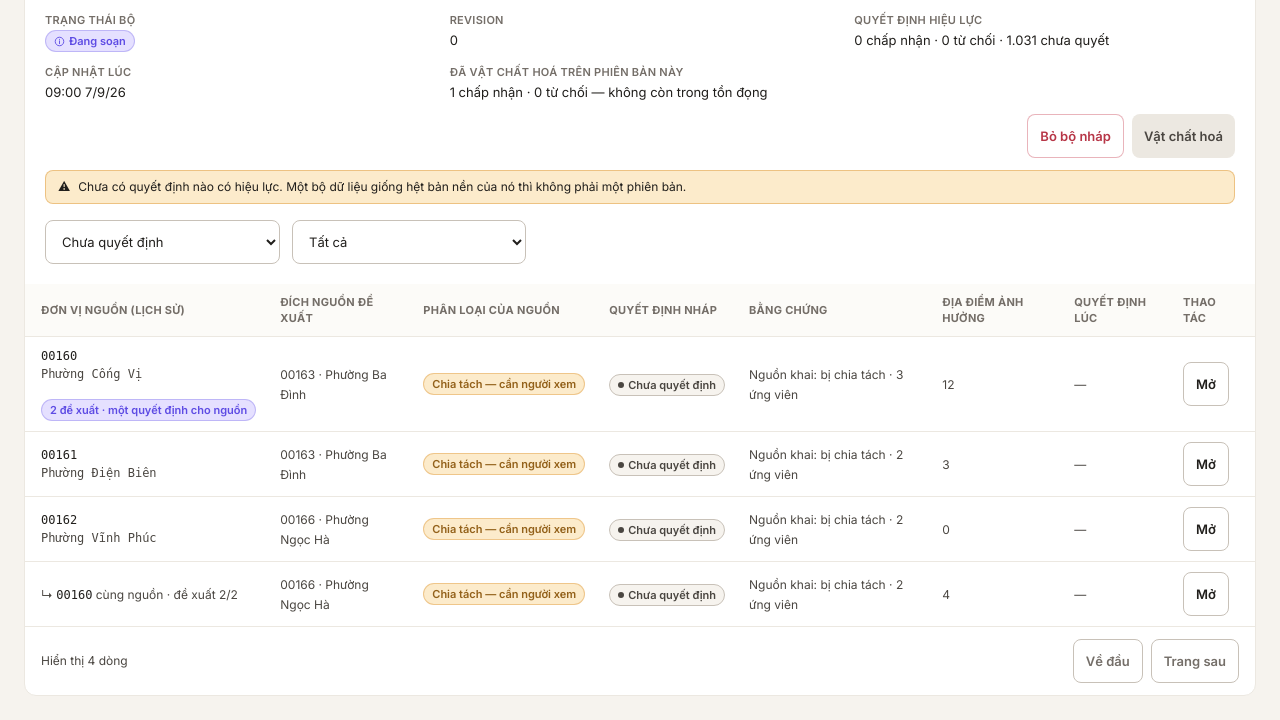
Test: the row detail › refuses to accept without a target and a reason
The image size is (1280, 720).
(page scrolled)
Click the button "Mở" in the row of "Phường Cống Vị" at (1206, 384), box 1183,362 -> 1229,406
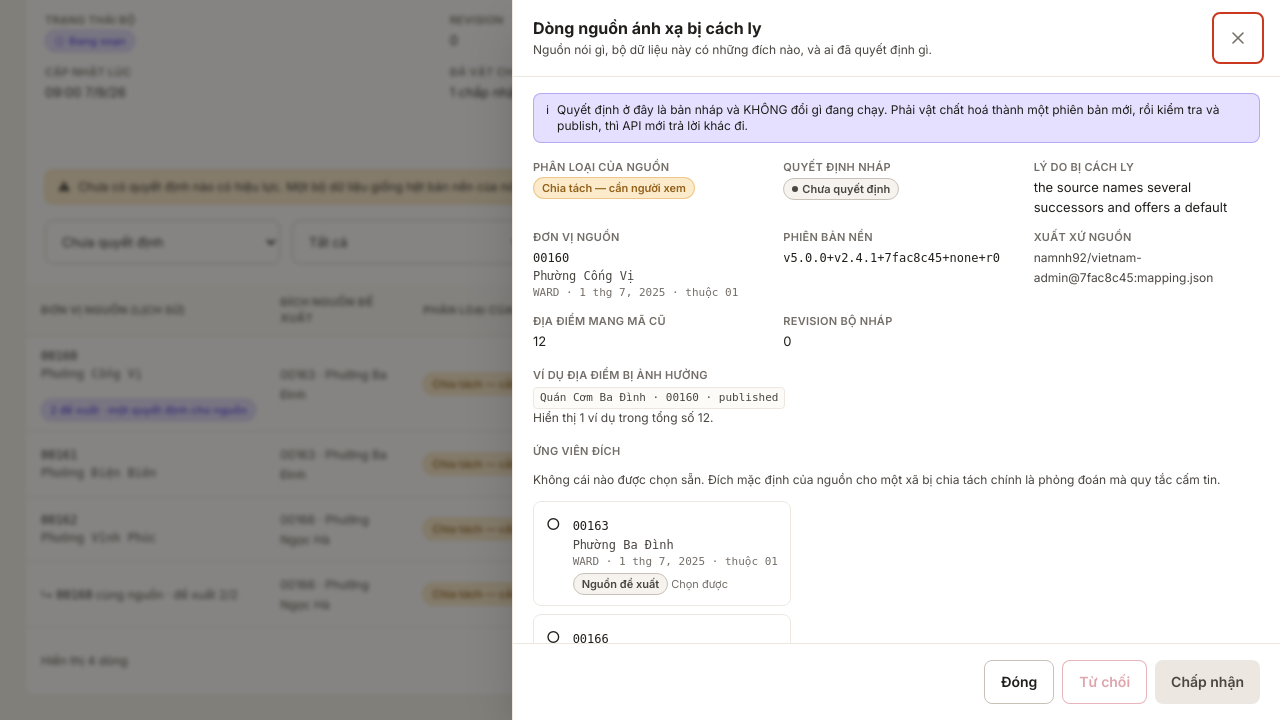
Result: the text "Phường Cống Vị" is shown at 533,269 -> 634,283
Result: the button "Chấp nhận" is disabled at 1155,660 -> 1260,704
Click the radio button at (662, 554), box 533,501 -> 791,606
(page scrolled)
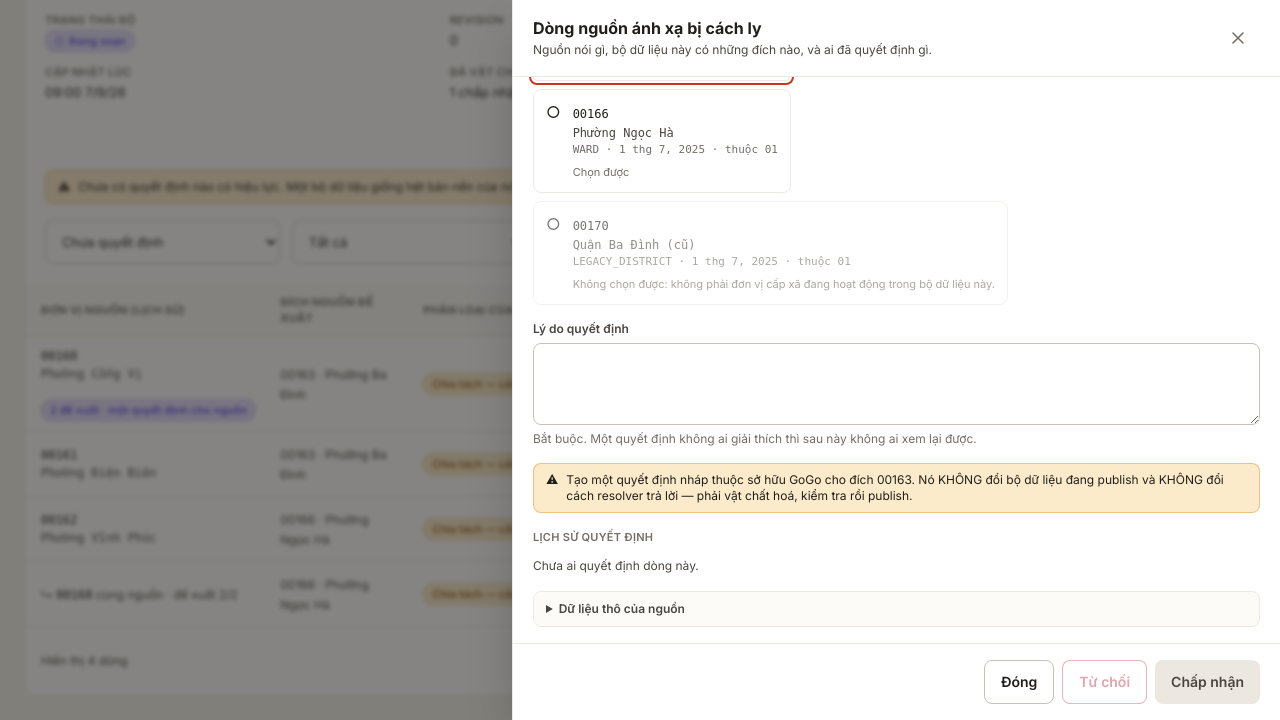
Result: the button "Chấp nhận" is disabled at 1155,660 -> 1260,704
Type "khảo sát thực địa" into the text box labelled "Lý do quyết định" at (896, 384), box 533,343 -> 1260,425
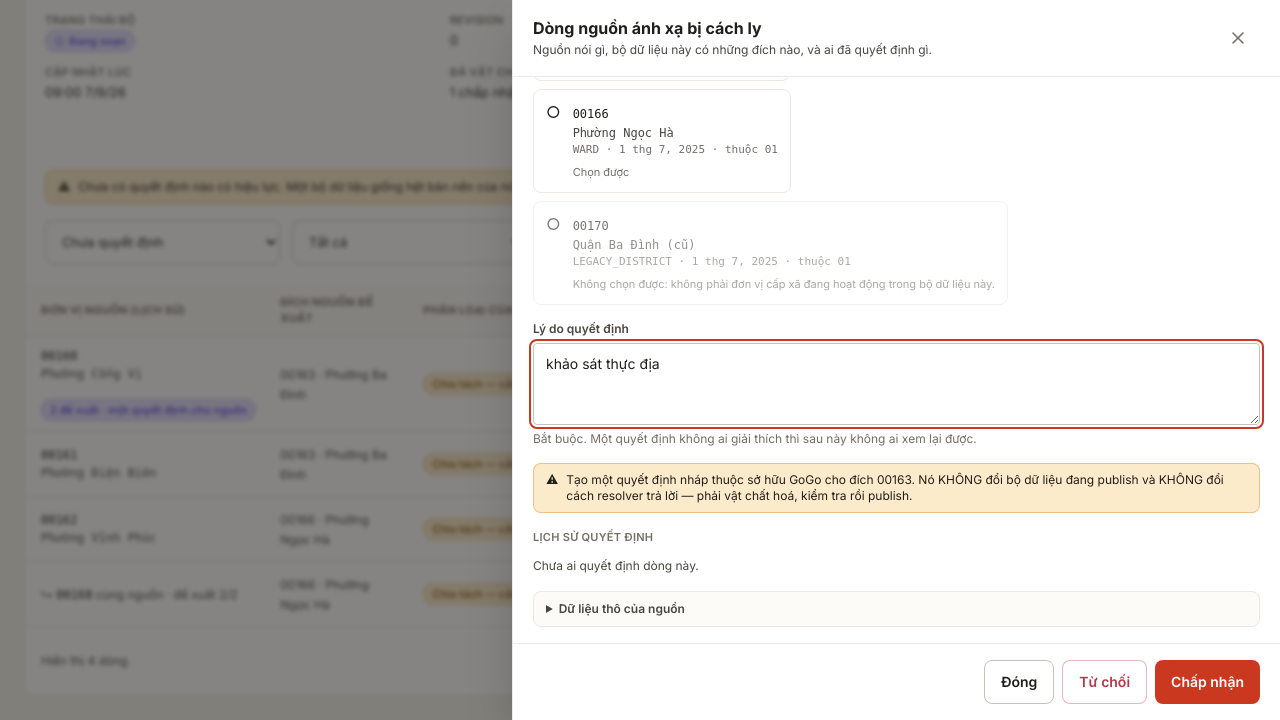
Result: the button "Chấp nhận" is enabled at 1155,660 -> 1260,704
